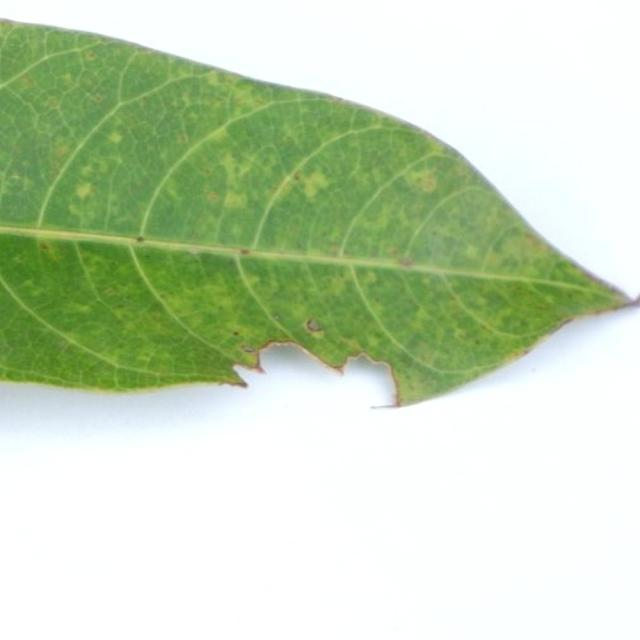Mango: (2, 16, 626, 393)
Powdery_Mildew: (490, 224, 570, 274), (293, 166, 330, 199), (2, 170, 36, 198), (71, 177, 102, 204), (409, 166, 440, 193), (223, 190, 248, 210), (241, 271, 263, 290), (53, 142, 73, 160), (465, 245, 482, 260), (362, 271, 378, 285), (44, 95, 61, 108), (306, 319, 322, 332), (108, 130, 123, 143), (102, 286, 119, 297), (88, 92, 103, 104), (17, 75, 32, 87), (327, 243, 342, 255), (61, 72, 74, 85), (206, 191, 220, 203), (453, 327, 467, 339), (21, 279, 36, 289), (400, 256, 413, 267), (84, 50, 96, 61), (176, 133, 187, 144), (10, 172, 21, 180), (40, 243, 50, 251), (293, 172, 301, 181), (240, 248, 250, 255), (232, 330, 240, 336)
